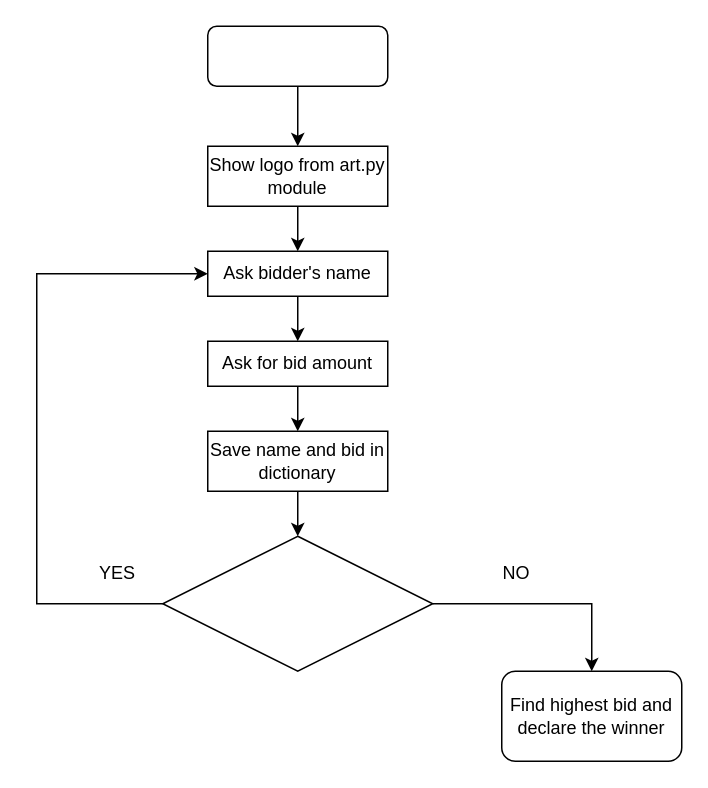
This 708x788 diagram has some shape labels left out. The box of each missing label's shape, as (x1, y1, x2, y2) in pixels:
Check if there are other users who want to bid: (161, 535, 433, 671)
START: (206, 25, 388, 86)
